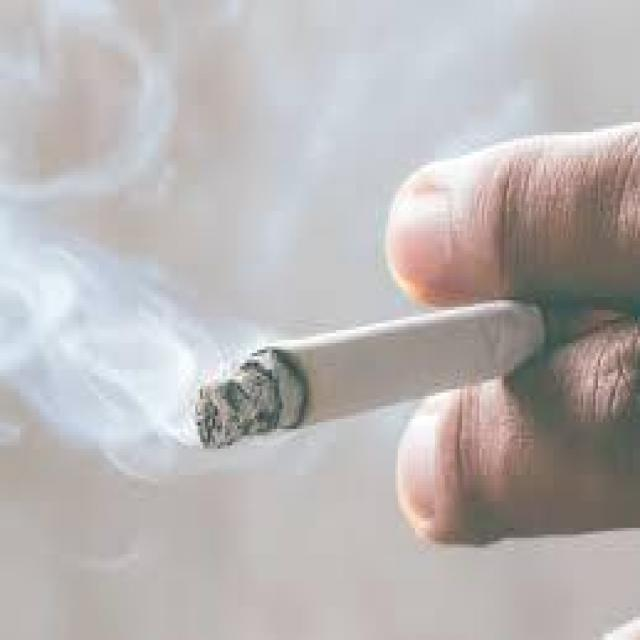cigarette: (185, 267, 630, 459)
